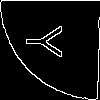Y: (25, 24, 72, 59)
